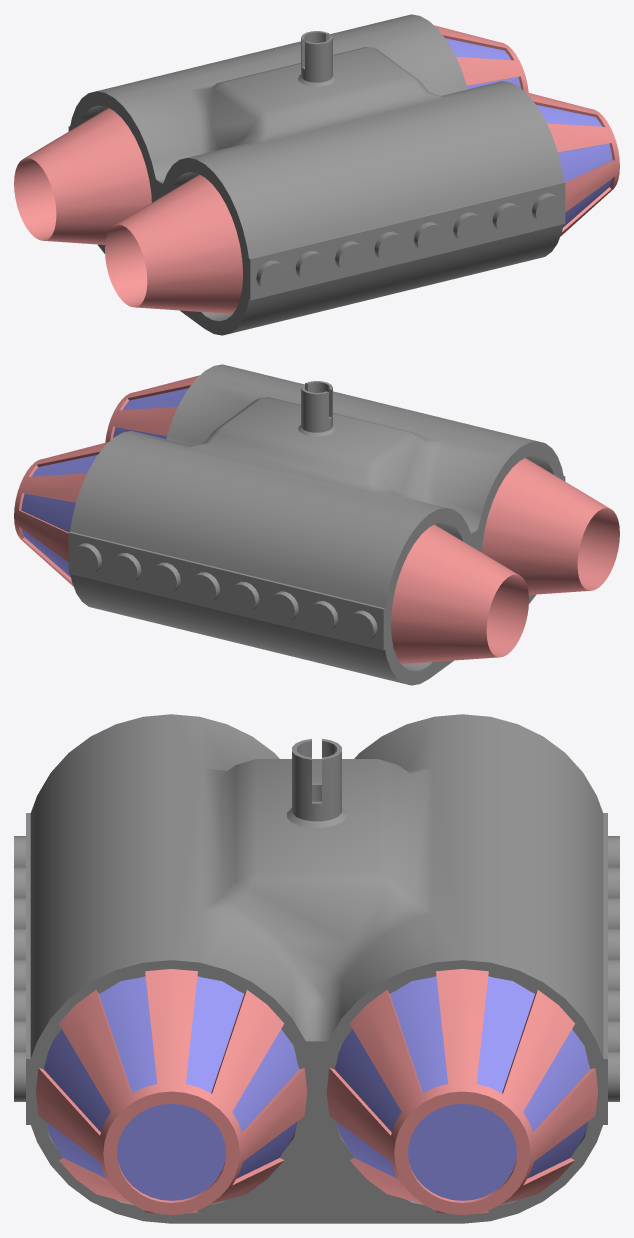
The model's file is SM_Turbine_12x8x5.gltf.
3 views of the same model, one above another, from view 1: azimuth 30°, elevation 25°; view 2: azimuth 150°, elevation 25°; view 3: azimuth 270°, elevation 25° (orthographic). The views are drawn at different scales.
Visible parts, largest first — view 1: SM_Turbine_12x8x5; view 2: SM_Turbine_12x8x5; view 3: SM_Turbine_12x8x5.
Boxes of the visible parts, x1,y1,x2,y2 form: SM_Turbine_12x8x5: (14,14,619,335); SM_Turbine_12x8x5: (14,364,619,685); SM_Turbine_12x8x5: (14,714,619,1223).
Size of the model in its own units: 3.6 by 1.6 by 2.5.
